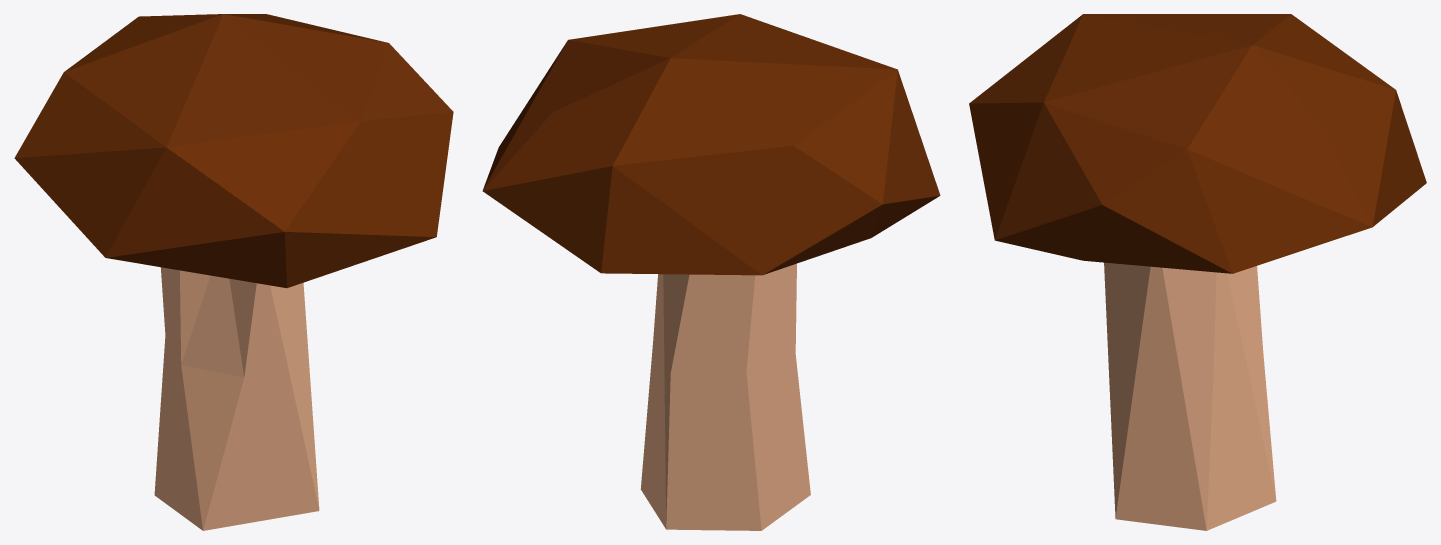
The model's file is mushroom01.gltf.
The picture shows the model from 3 angles, left to right: view 1: azimuth 30°, elevation 25°; view 2: azimuth 150°, elevation 25°; view 3: azimuth 270°, elevation 25°; orthographic projection.
Visible parts, largest first — view 1: Cylinder; view 2: Cylinder; view 3: Cylinder.
Boxes of the visible parts, x1,y1,x2,y2 form: Cylinder: (14,14,453,530); Cylinder: (482,14,940,530); Cylinder: (969,14,1426,530).
Bounding box in the file's own units: 0.1174 × 0.1313 × 0.1184.
Materials: 1 (1 with a texture image).
